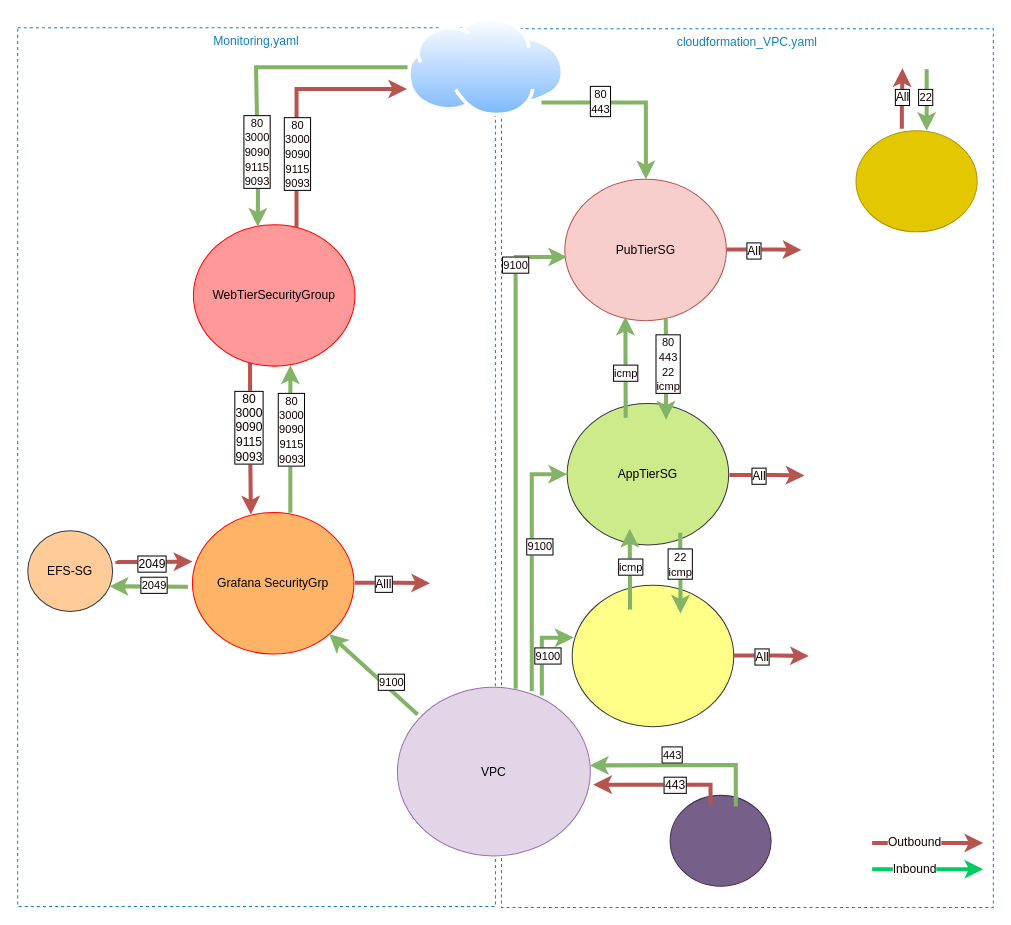
Some shapes in this 1011 by 925 pixel diagram are drawn without their labels. The shapes that lost their labels are listed below. From the top down, each one's centre as x and y in pixels, then its label:
At [485,66]: "Internet".
At [916,181]: "PingIngressSecurityGroup".
At [652,655]: "DBTierSG".
At [720,840]: "SSMEndpointsSg".
